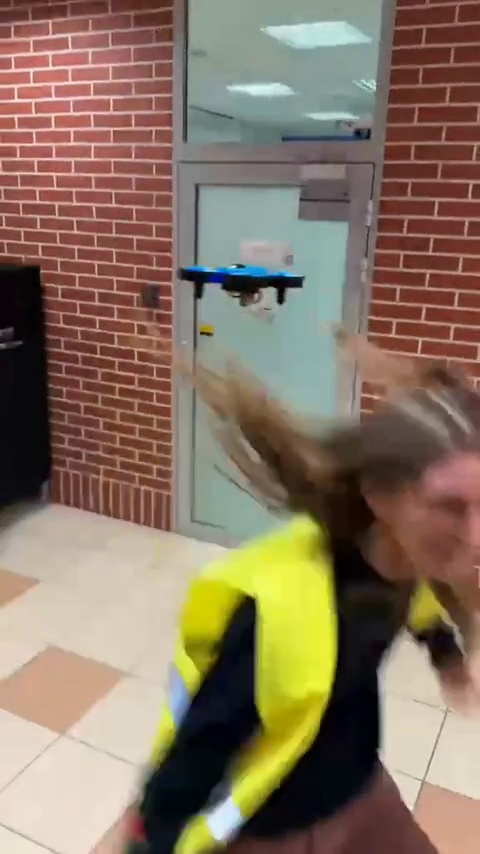drone: (174, 256, 304, 313)
vest: (135, 358, 475, 852)
